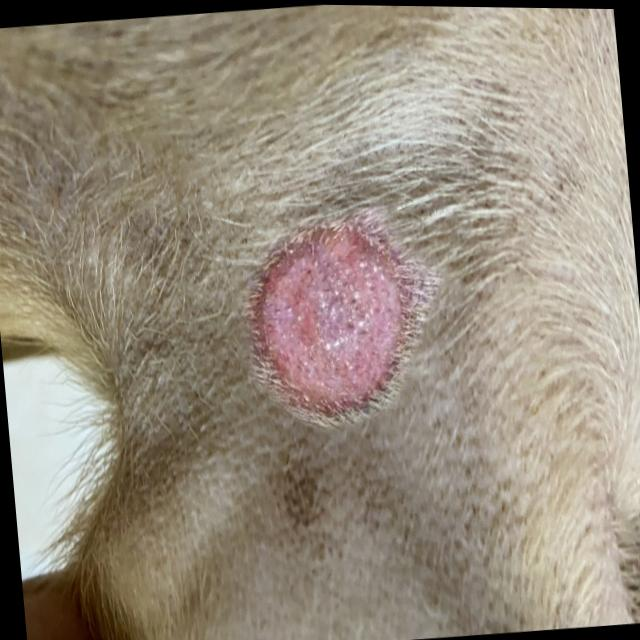ringworm: (238, 184, 444, 460)
